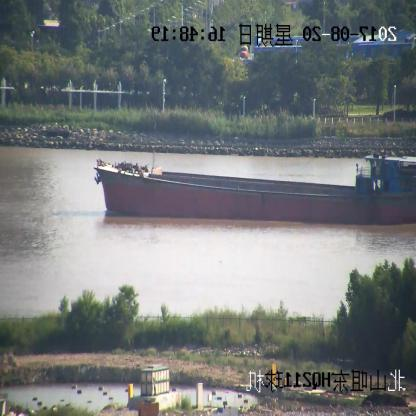Bulk Carrier: (94, 154, 416, 224)
